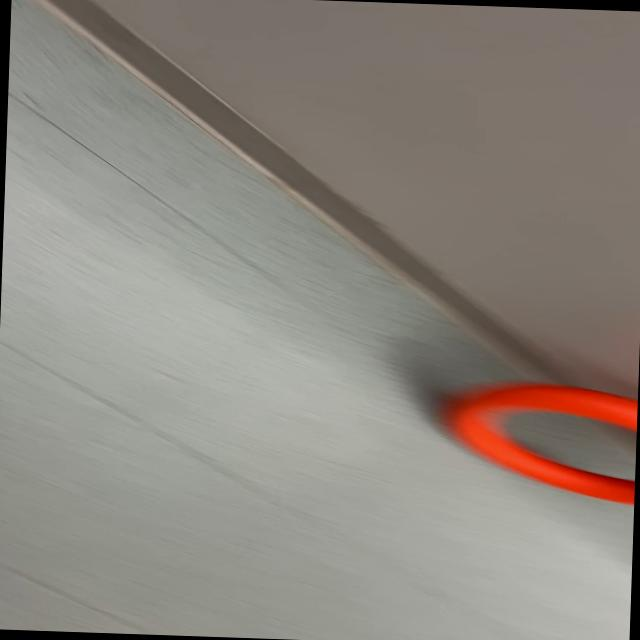note: (434, 376, 636, 505)
